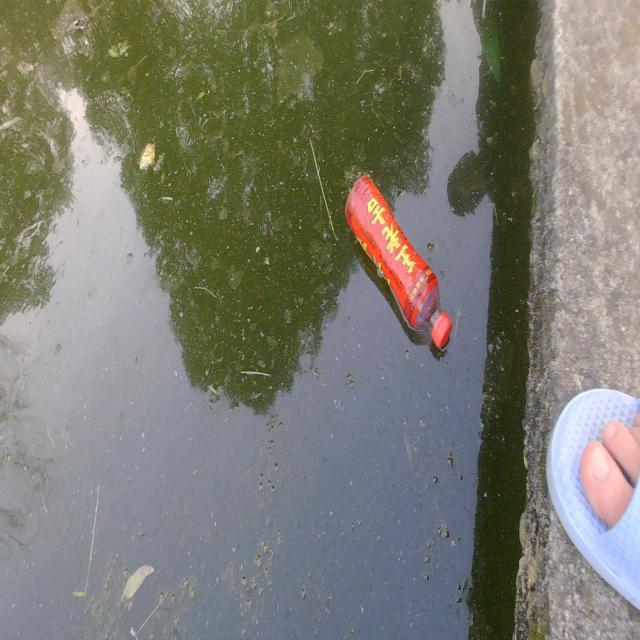bottle: (327, 168, 468, 356)
